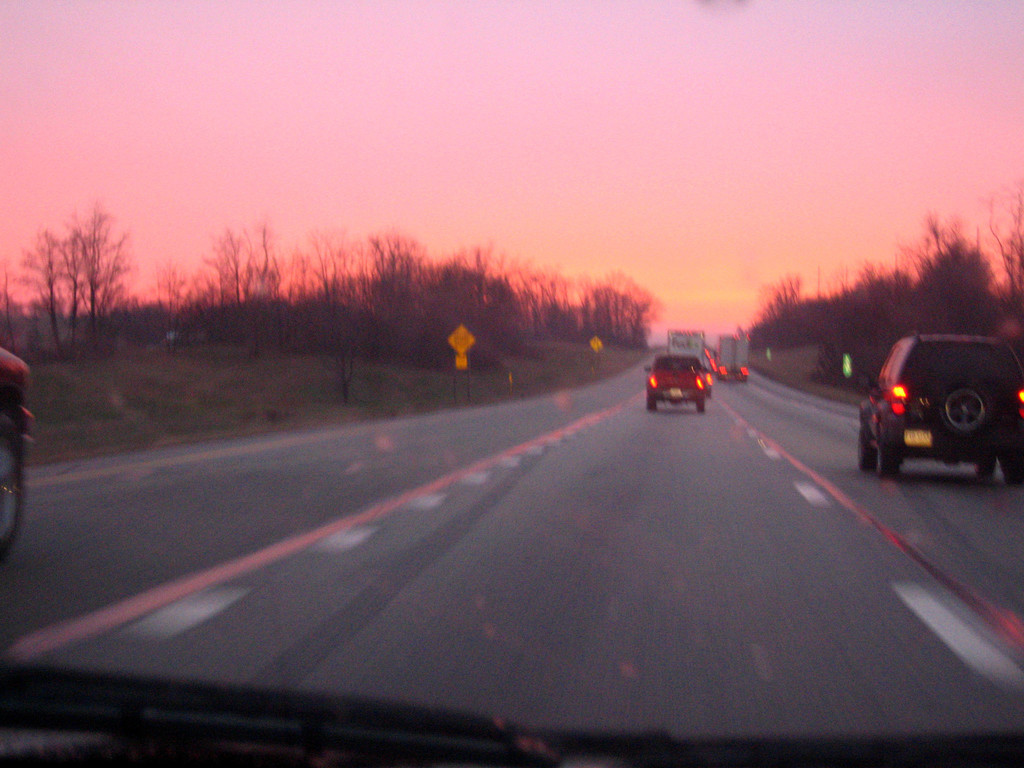Car: (2, 0, 1023, 767), (863, 327, 1020, 476), (643, 354, 709, 419)
